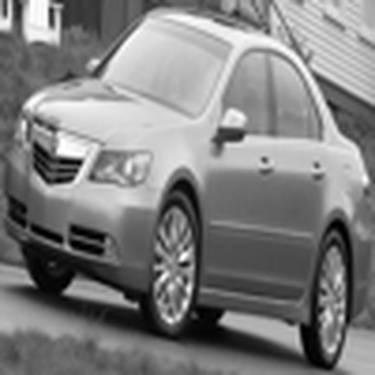car: (27, 3, 360, 345)
